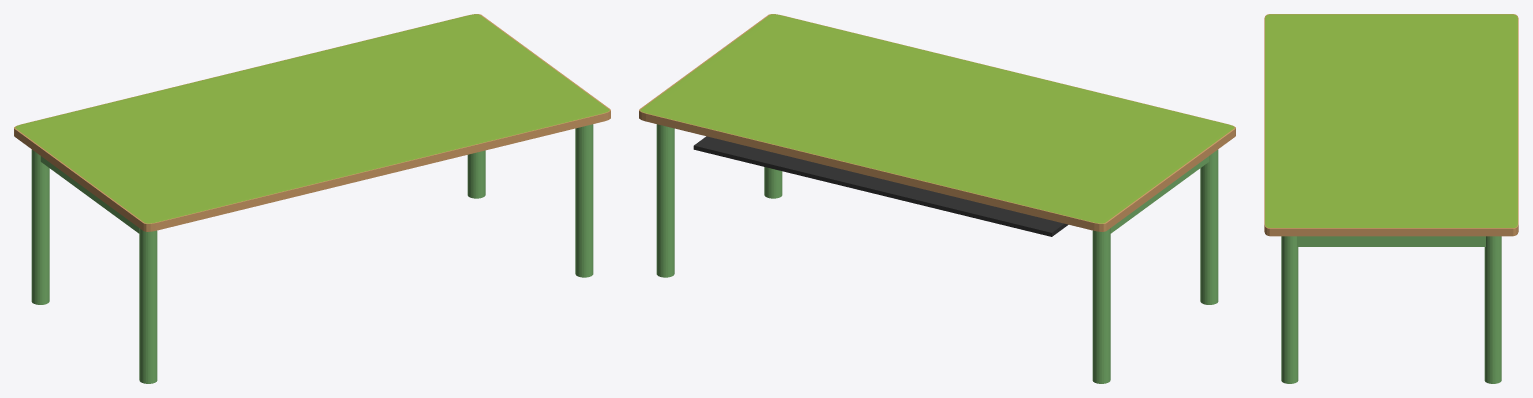
Rendered from Mesa.fbx.
3 renders of one model, left to right at view 1: azimuth 30°, elevation 25°; view 2: azimuth 150°, elevation 25°; view 3: azimuth 270°, elevation 25°, orthographic. The views are drawn at different scales.
Visible parts, largest first — view 1: Madera, Pata3, Pata4, Pata2, Pata1, Soporte2; view 2: Madera, MaderaAbajo, Pata2, Pata1, Pata3, Soporte2, Pata4; view 3: Madera, Pata1, Pata4, Soporte1.
Boxes of the visible parts, x1=… form: Madera: x1=14, y1=14, x2=610, y2=231; Pata3: x1=139, y1=228, x2=157, y2=383; Pata4: x1=575, y1=124, x2=593, y2=277; Pata2: x1=31, y1=149, x2=49, y2=304; Pata1: x1=467, y1=150, x2=485, y2=198; Soporte2: x1=40, y1=156, x2=139, y2=233; Madera: x1=639, y1=14, x2=1235, y2=231; MaderaAbajo: x1=693, y1=136, x2=1068, y2=236; Pata2: x1=1092, y1=228, x2=1110, y2=383; Pata1: x1=656, y1=124, x2=674, y2=277; Pata3: x1=1200, y1=149, x2=1218, y2=304; Soporte2: x1=1110, y1=156, x2=1209, y2=233; Pata4: x1=764, y1=167, x2=782, y2=198; Madera: x1=1264, y1=14, x2=1518, y2=236; Pata1: x1=1484, y1=236, x2=1501, y2=383; Pata4: x1=1281, y1=236, x2=1298, y2=383; Soporte1: x1=1297, y1=236, x2=1485, y2=246.
Bounding box in the file's own units: 300 × 104 × 150.
